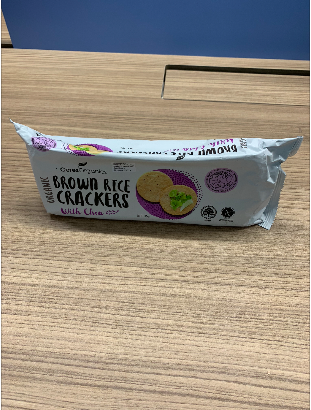Crackers_100-199g: (42, 145, 260, 222)
